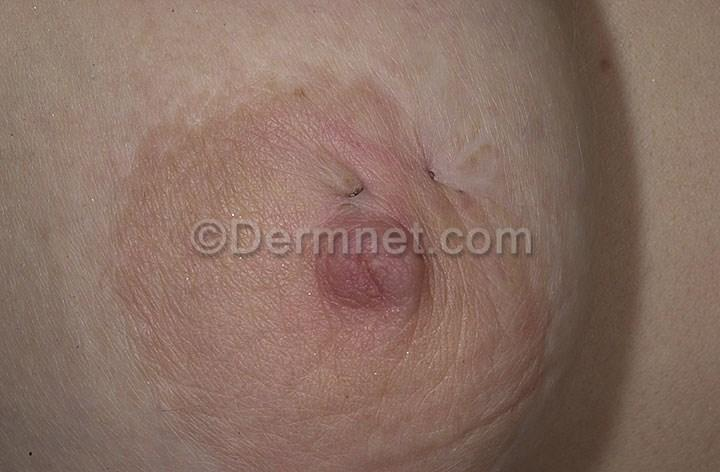Acne: (321, 207, 442, 331)
